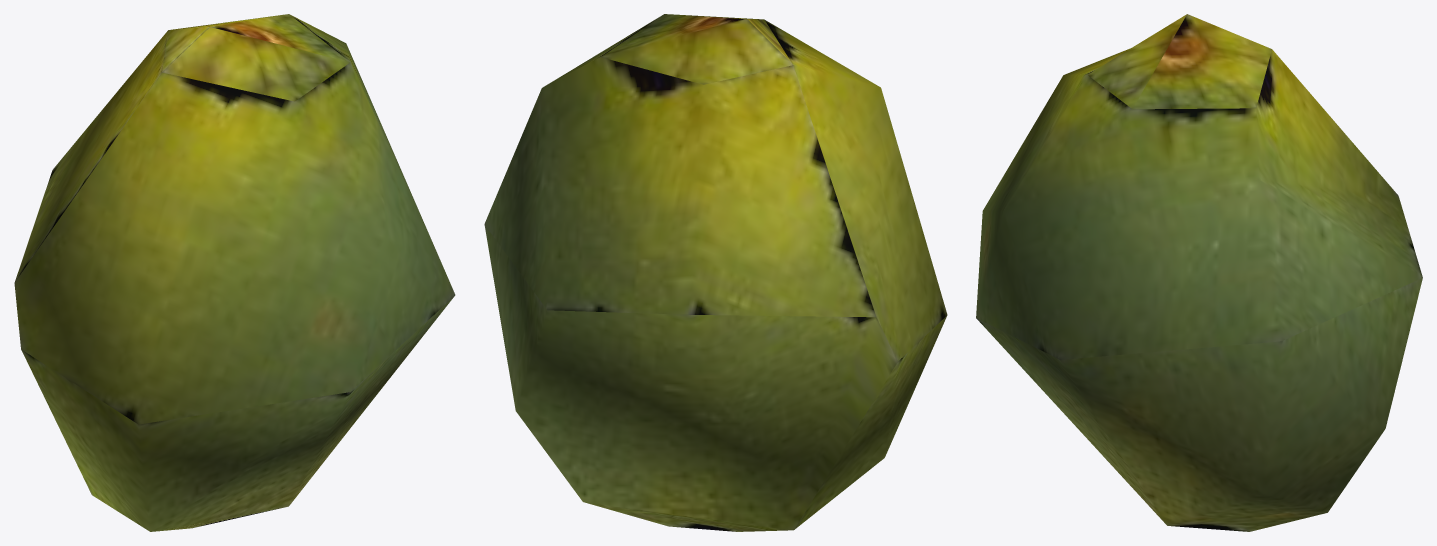
File: food_lime_01.glb
3 views of the same model, side by side, from view 1: azimuth 30°, elevation 25°; view 2: azimuth 150°, elevation 25°; view 3: azimuth 270°, elevation 25° (orthographic). The views are drawn at different scales.
Visible parts, largest first — view 1: food_lime_01; view 2: food_lime_01; view 3: food_lime_01.
Part boxes in pixels (left/top/right/bottom): food_lime_01: left=14, top=14, right=455, bottom=531; food_lime_01: left=484, top=14, right=947, bottom=531; food_lime_01: left=976, top=14, right=1422, bottom=531.
Bounding box in the file's own units: 0.0585 × 0.073 × 0.0591.
1 material, 1 textured.
